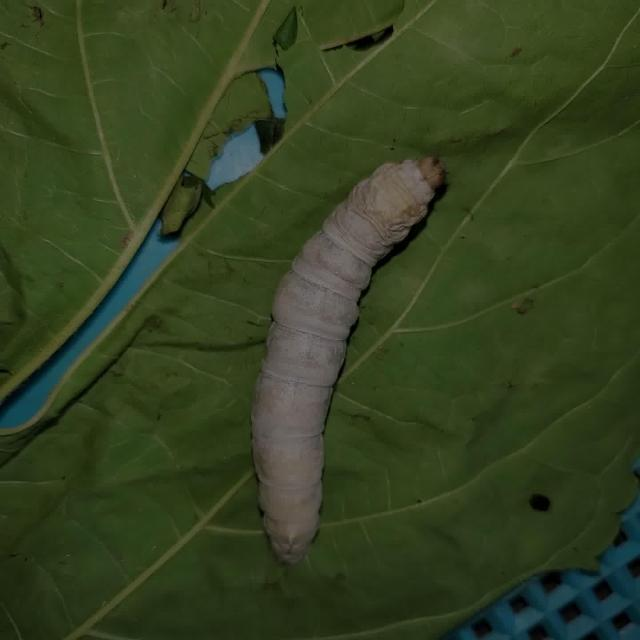Grasserie: (199, 93, 472, 588)
